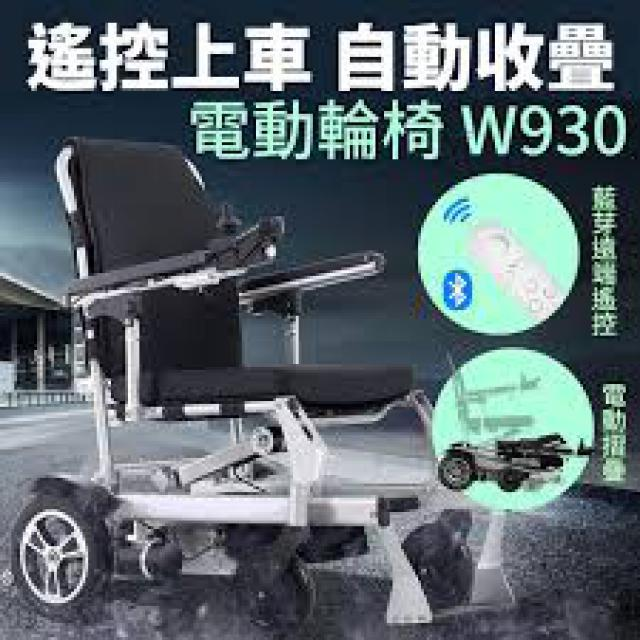wheelchair: (3, 116, 441, 628)
